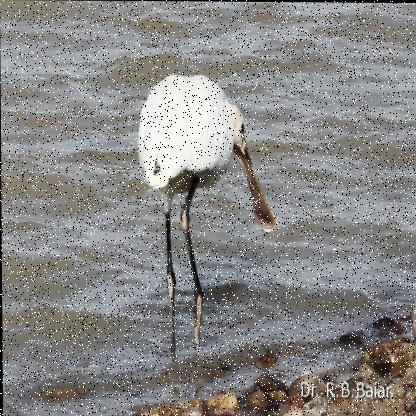Burung: (136, 74, 276, 339)
